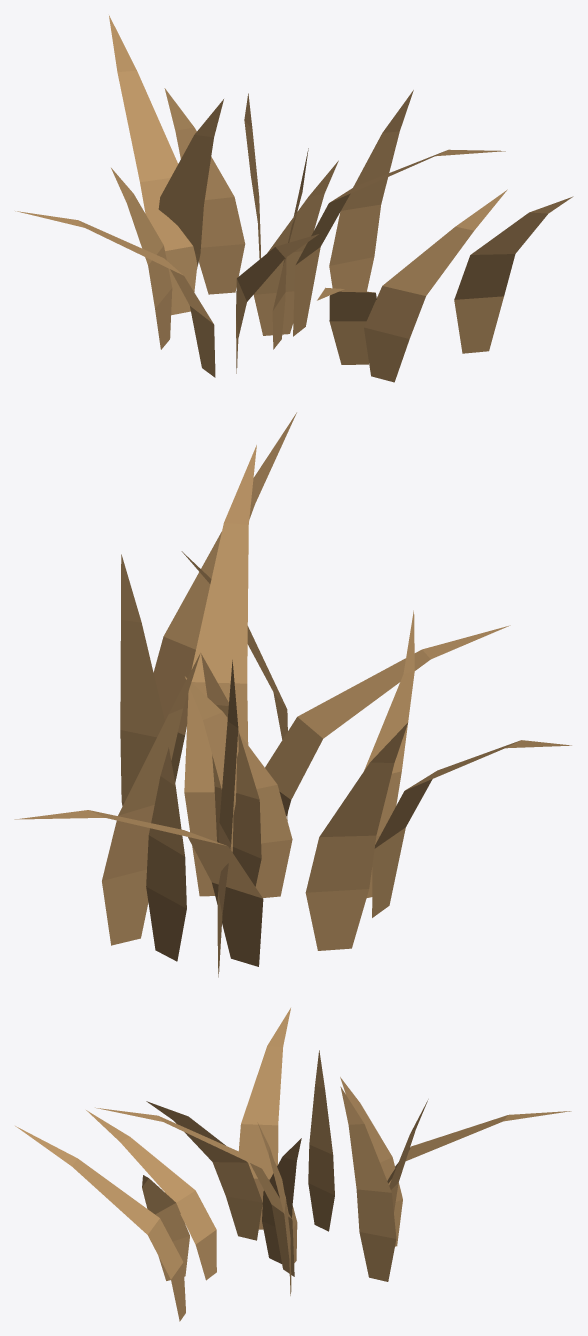
Rendered from SM_Grass_03.fbx.
3 views of the same model, one above another, from view 1: azimuth 30°, elevation 25°; view 2: azimuth 150°, elevation 25°; view 3: azimuth 270°, elevation 25° (orthographic). The views are drawn at different scales.
Visible parts, largest first — view 1: SM_Grass_03; view 2: SM_Grass_03; view 3: SM_Grass_03.
Part boxes in pixels (x1,y1,x2,y2): SM_Grass_03: [15, 15, 573, 382]; SM_Grass_03: [14, 412, 571, 977]; SM_Grass_03: [15, 1008, 571, 1321].
Size of the model in its own units: 227 by 129 by 326.
